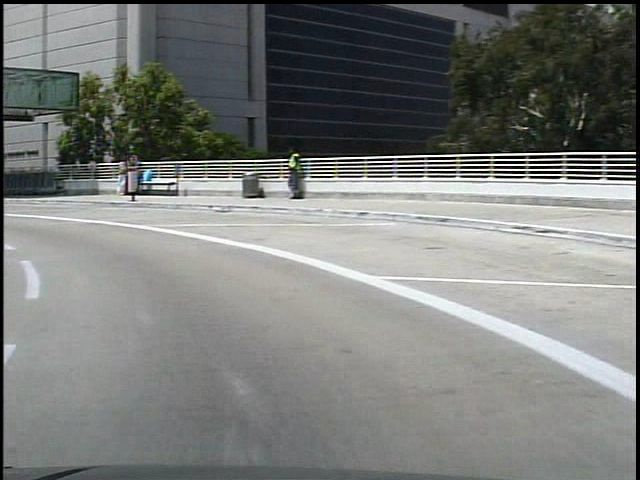person: (277, 142, 299, 201)
